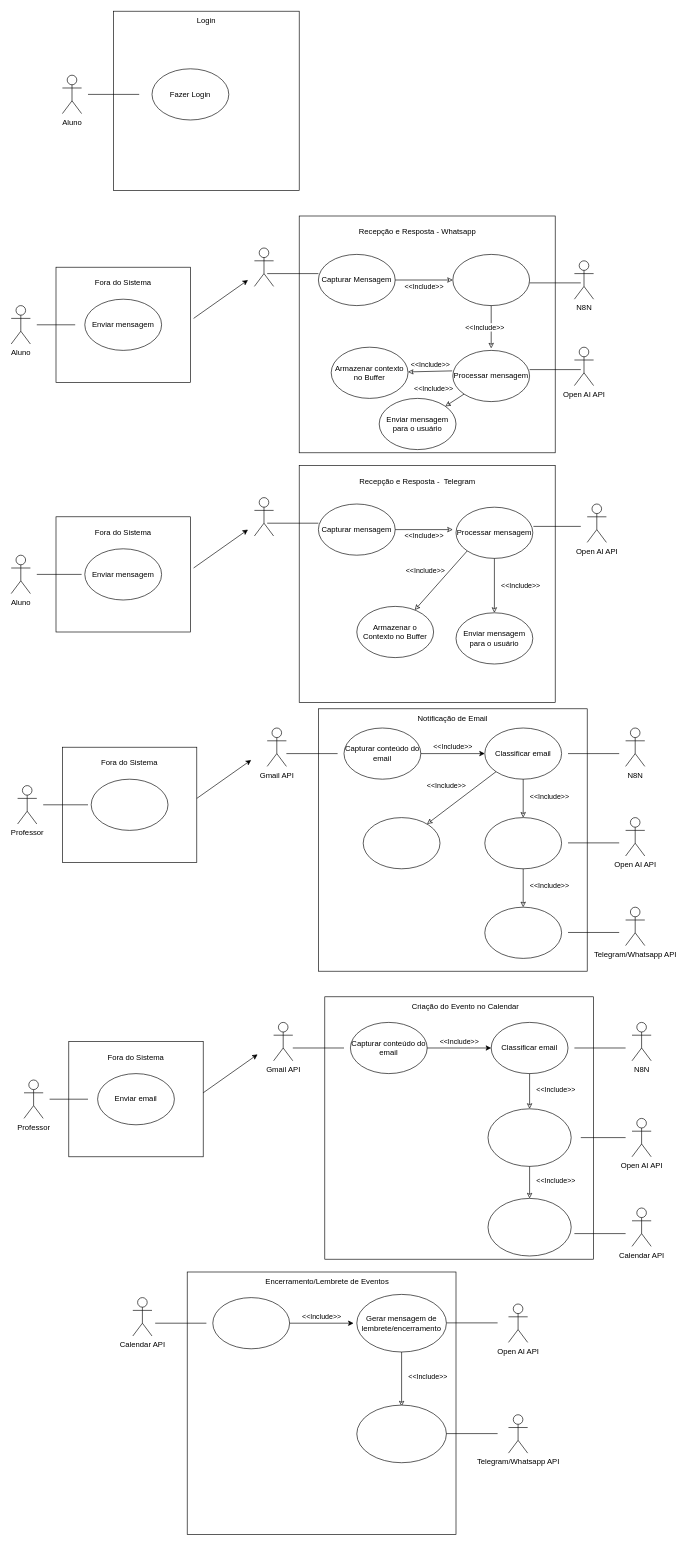
Some shapes in this 687 by 1546 pixel diagram are drawn without their labels. Here are the shapes that lost their labels. From the top down, the centre of each, then its label:
At point (264, 266): "WhatsApp API".
At point (491, 280): "Verificar conteúdo da mensagem".
At point (264, 516): "Telegram API".
At point (129, 804): "Envia Email".
At point (401, 843): "Marcar importância".
At point (523, 843): "Gerar resumo do conteúdo".
At point (523, 932): "Enviar notificação para o usuário".
At point (529, 1137): "Extrair e formatar dados do email".
At point (529, 1227): "Criar evento".
At point (251, 1323): "Avisar sobre o início/fim de um evento".
At point (401, 1433): "Enviar mensagem aos alunos".
